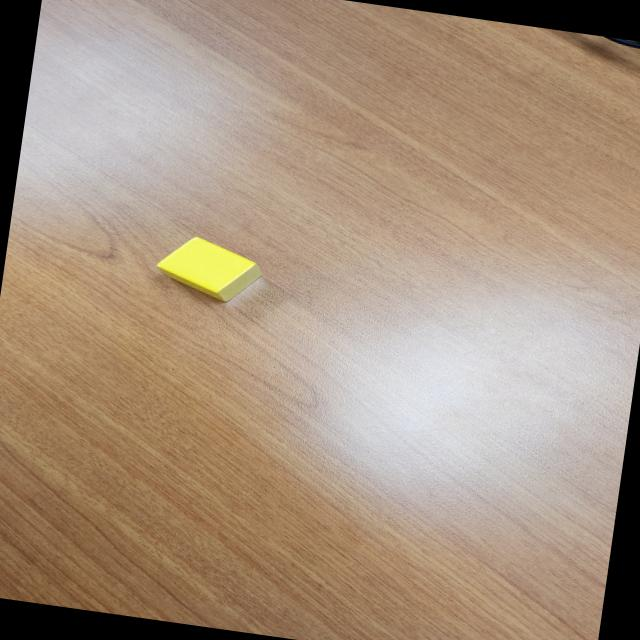yellow: (154, 231, 266, 306)
